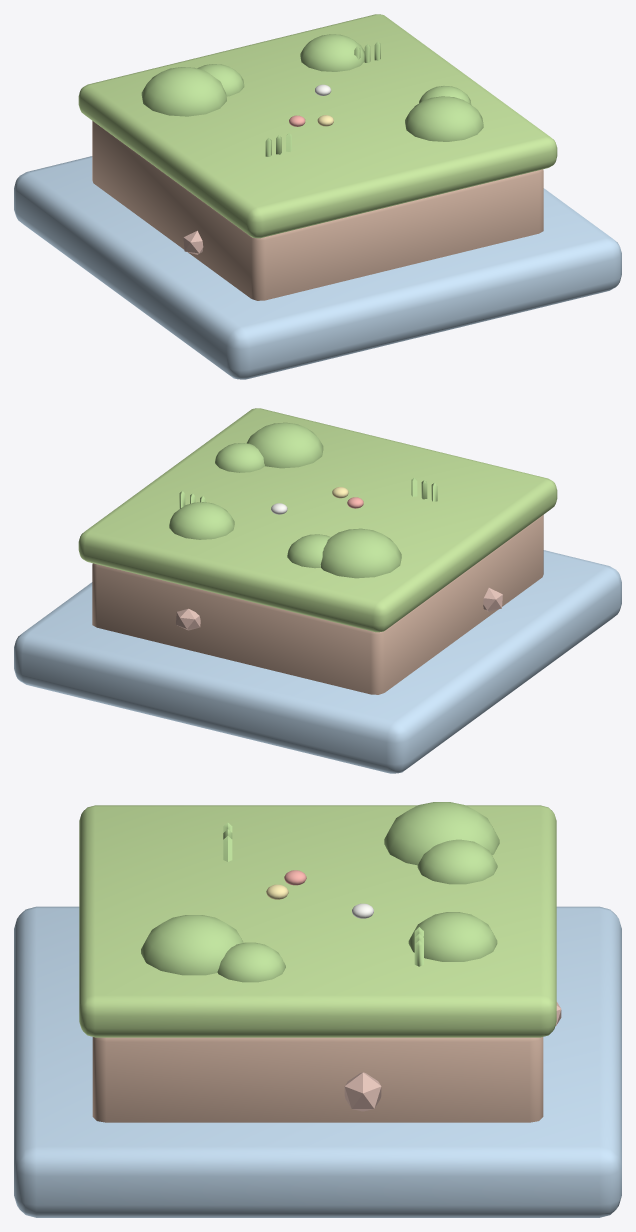
Rendered from island_tile.glb.
3 renders of one model, top to bottom at view 1: azimuth 30°, elevation 25°; view 2: azimuth 150°, elevation 25°; view 3: azimuth 270°, elevation 25°, orthographic. The views are drawn at different scales.
Visible parts, largest first — view 1: island_tile; view 2: island_tile; view 3: island_tile.
Part boxes in pixels (left/top/right/bottom): island_tile: left=14, top=14, right=621, bottom=379; island_tile: left=14, top=408, right=621, bottom=773; island_tile: left=14, top=802, right=621, bottom=1217.
Size of the model in its own units: 2.7 by 1.13 by 2.7.
